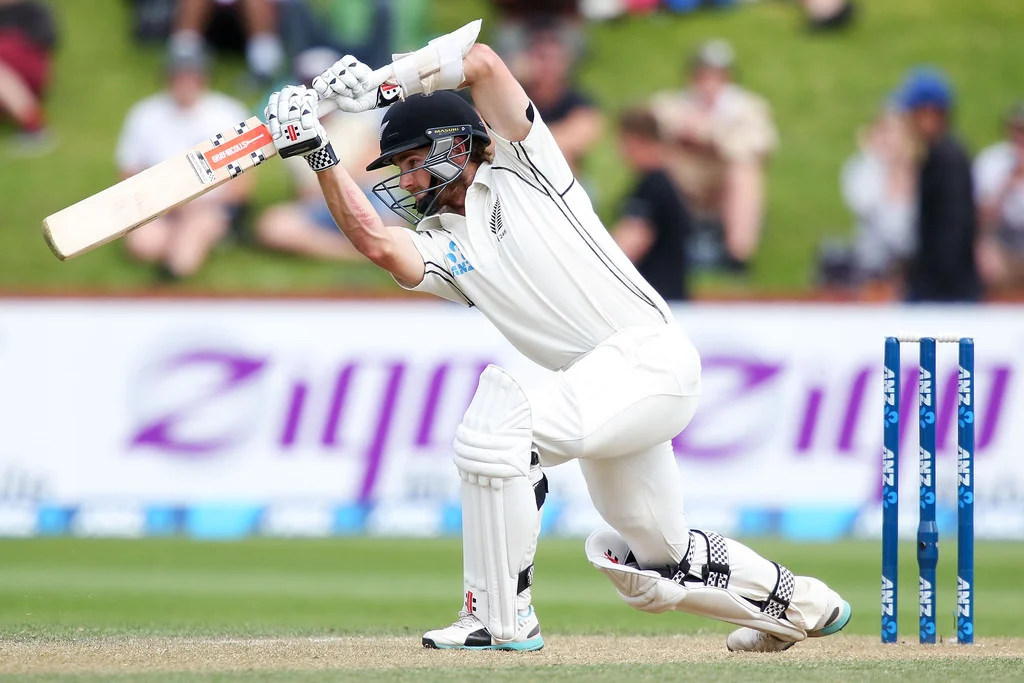Defence: (12, 5, 884, 682)
